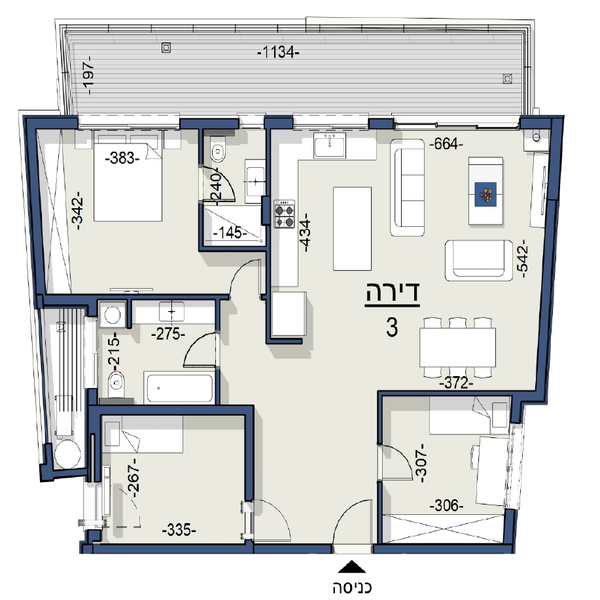door: (329, 488, 379, 551), (238, 495, 294, 547), (376, 442, 418, 487), (197, 166, 244, 204), (183, 331, 223, 371), (227, 257, 265, 296)
room: (263, 112, 550, 403), (24, 104, 270, 297), (87, 399, 257, 549), (377, 388, 519, 552), (85, 289, 222, 414)
wall: (537, 117, 565, 401), (23, 112, 47, 305), (262, 126, 275, 343), (87, 544, 332, 555), (91, 403, 251, 418), (98, 290, 227, 302), (22, 106, 77, 134), (244, 409, 257, 504), (376, 544, 508, 553), (179, 115, 242, 131), (37, 295, 101, 309), (525, 114, 567, 134), (199, 244, 267, 255), (373, 390, 518, 395), (263, 108, 294, 131), (196, 202, 207, 255), (376, 478, 385, 538), (377, 391, 386, 444), (502, 511, 514, 547), (215, 369, 223, 403)
window: (391, 114, 517, 132), (76, 111, 182, 131), (299, 114, 370, 130), (85, 323, 102, 389)
